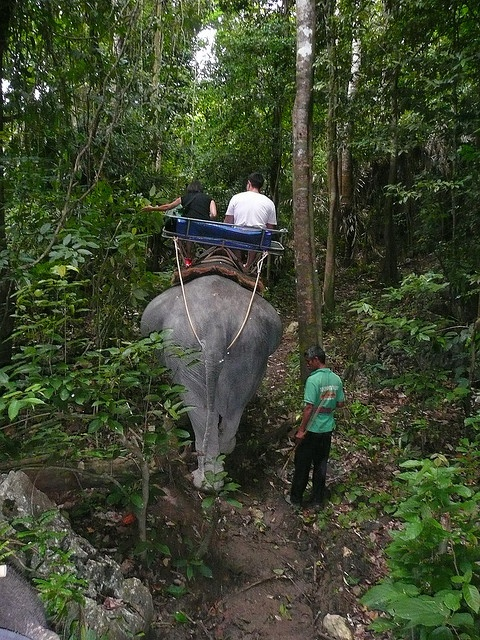elephant: (139, 273, 284, 490)
